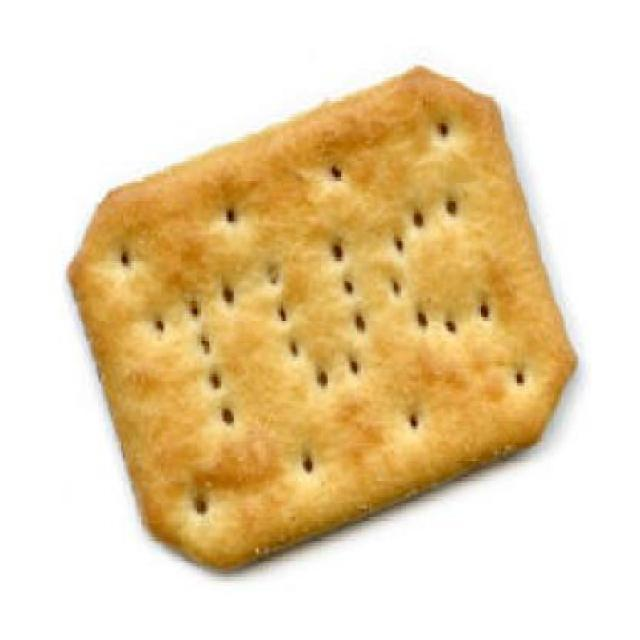Cracker packaged: (66, 51, 586, 588)
